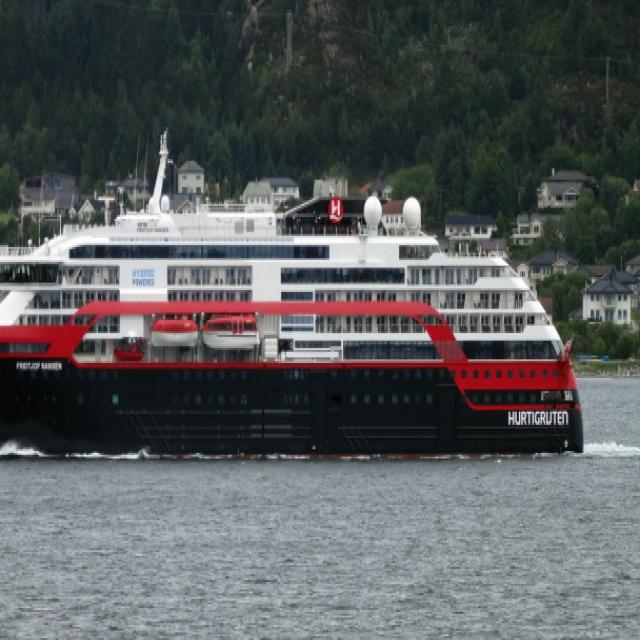cruises: (1, 128, 590, 478)
